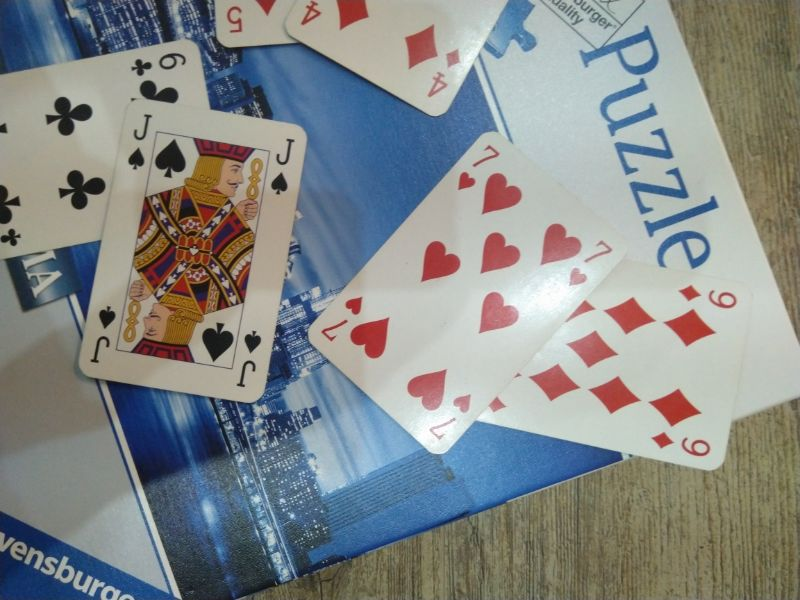4d: (424, 45, 465, 113)
6c: (127, 48, 194, 82)
7h: (564, 233, 617, 293), (424, 390, 476, 451), (317, 290, 366, 353), (454, 136, 504, 195)
9d: (671, 275, 746, 318), (648, 424, 719, 465)
Js: (264, 127, 302, 205), (83, 302, 122, 372), (233, 327, 271, 395), (125, 101, 156, 176)
